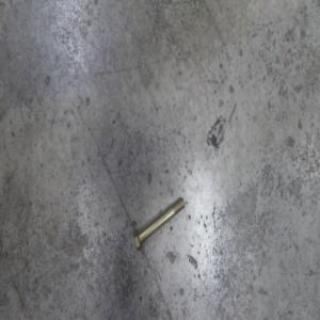Bolttrack_idkeyframe: (132, 192, 185, 253)
